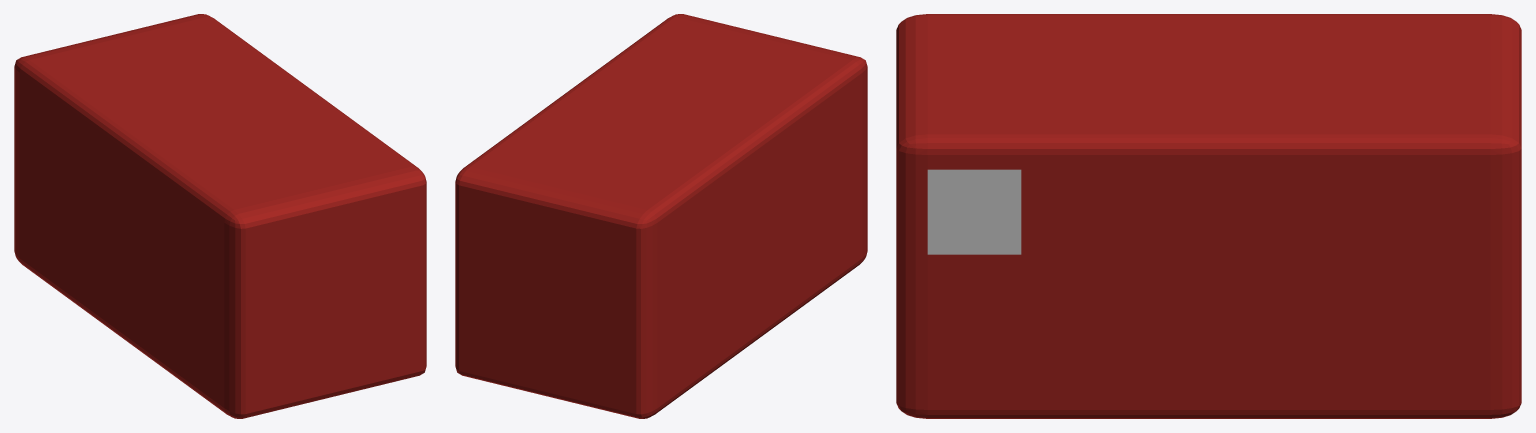
File: Message_Highlight_Hashtag.dae
3 views of the same model, side by side, from view 1: azimuth 30°, elevation 25°; view 2: azimuth 150°, elevation 25°; view 3: azimuth 270°, elevation 25° (orthographic). The views are drawn at different scales.
Visible parts, largest first — view 1: Cube; view 2: Cube; view 3: Cube, Plane, Plane_001.
Part boxes in pixels (x1,y1,x2,y2): Cube: [14, 14, 426, 418]; Cube: [455, 14, 867, 418]; Cube: [896, 14, 1521, 418]; Plane: [927, 169, 1021, 254]; Plane_001: [1396, 169, 1490, 254].
Bounding box in the file's own units: 1 × 2 × 1.
